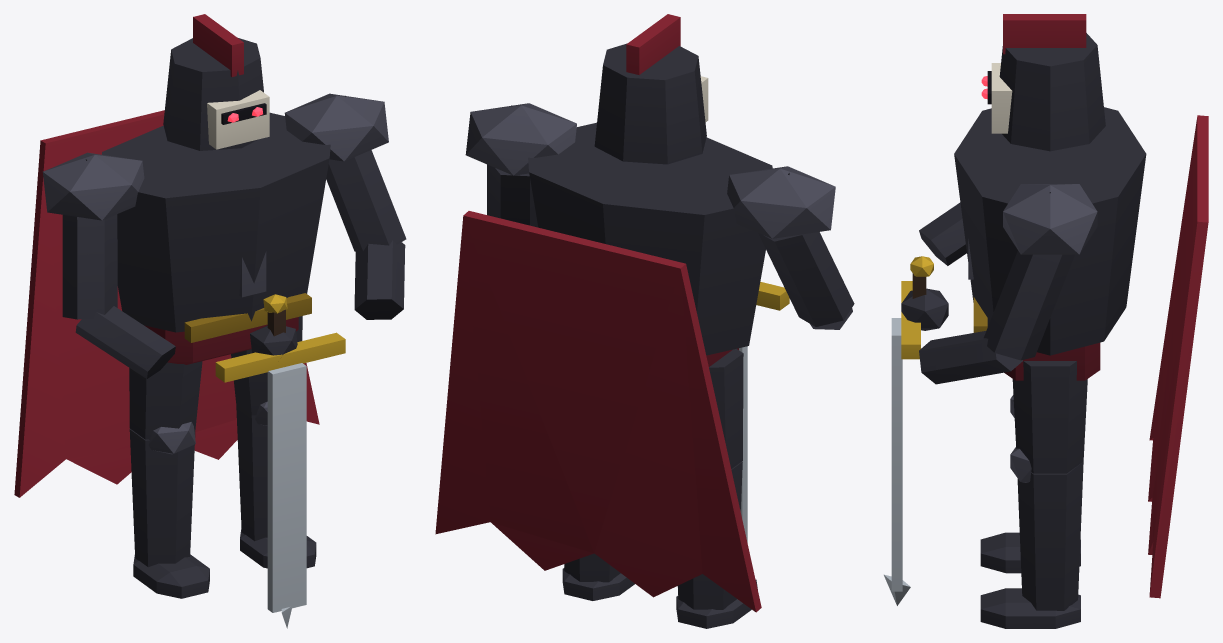
Rendered from enemy_bone_knight.glb.
3 views of the same model, side by side, from view 1: azimuth 30°, elevation 25°; view 2: azimuth 150°, elevation 25°; view 3: azimuth 270°, elevation 25° (orthographic). The views are drawn at different scales.
Parts seen in each view (by area): view 1: enemy_bone_knight; view 2: enemy_bone_knight; view 3: enemy_bone_knight.
Part boxes in pixels (x1,y1,x2,y2): enemy_bone_knight: [14, 14, 406, 628]; enemy_bone_knight: [435, 14, 854, 628]; enemy_bone_knight: [884, 14, 1208, 628].
Bounding box in the file's own units: 1.8 × 2.8 × 1.4.
